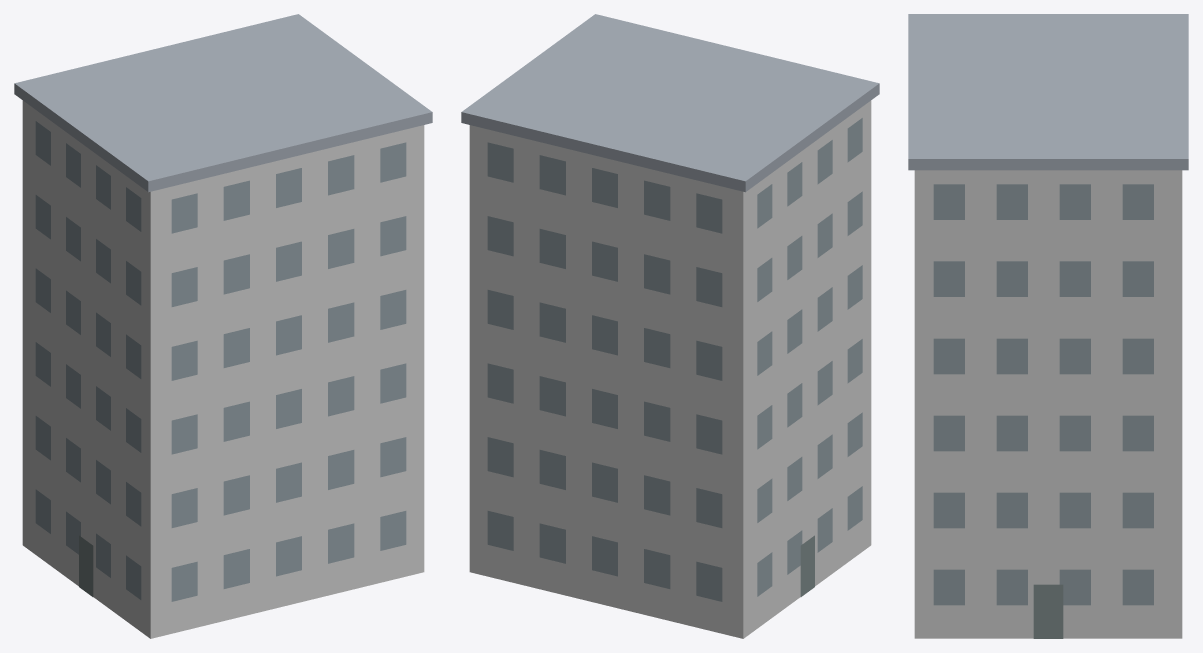
Rendered from block_4.glb.
The picture shows the model from 3 angles, left to right: view 1: azimuth 30°, elevation 25°; view 2: azimuth 150°, elevation 25°; view 3: azimuth 270°, elevation 25°; orthographic projection. The views are drawn at different scales.
Visible parts, largest first — view 1: block_4; view 2: block_4; view 3: block_4.
Boxes of the visible parts, x1=… form: block_4: x1=14, y1=14, x2=432, y2=638; block_4: x1=461, y1=14, x2=879, y2=638; block_4: x1=908, y1=14, x2=1188, y2=638.
Size of the model in its own units: 10.9 by 16.9 by 8.9.
